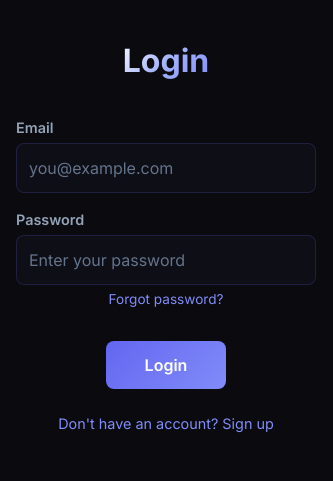
Test: Login › shows validation error when fields are empty
This screenshot has width=333, height=481.
Click the button "Login": (166, 365) [106,341,226,389]
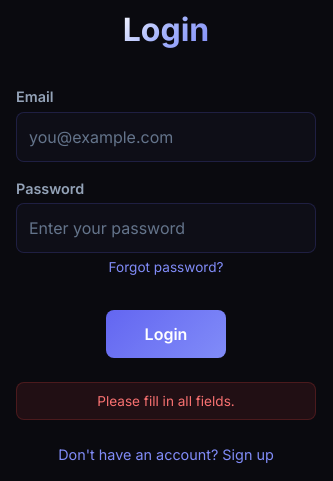
Expected: the message shows "fill in all fields", [97,393,235,409]
